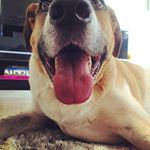puppy: (18, 1, 150, 138)
